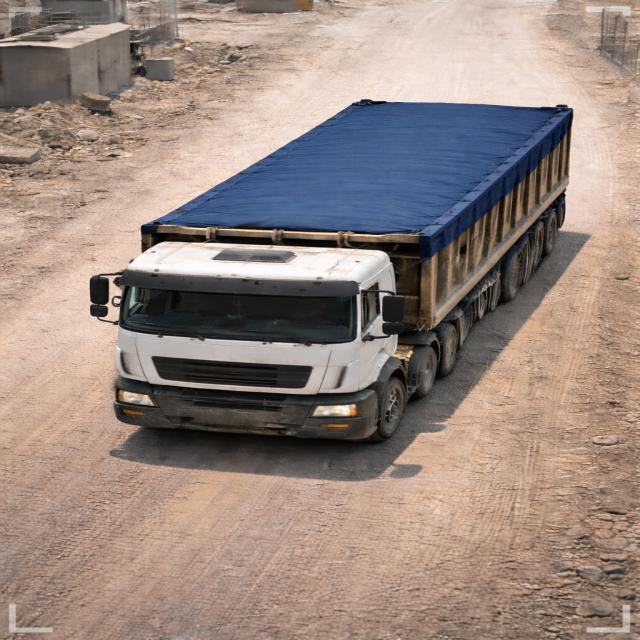Box: (144, 98, 572, 231)
Truck: (86, 84, 602, 435)
